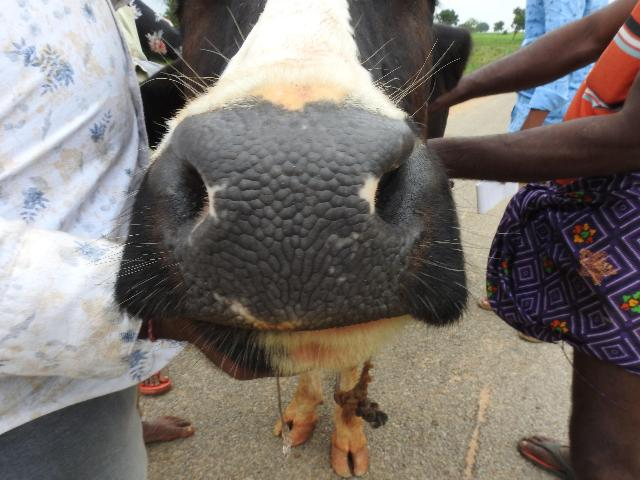Muzzle: (174, 125, 403, 329)
